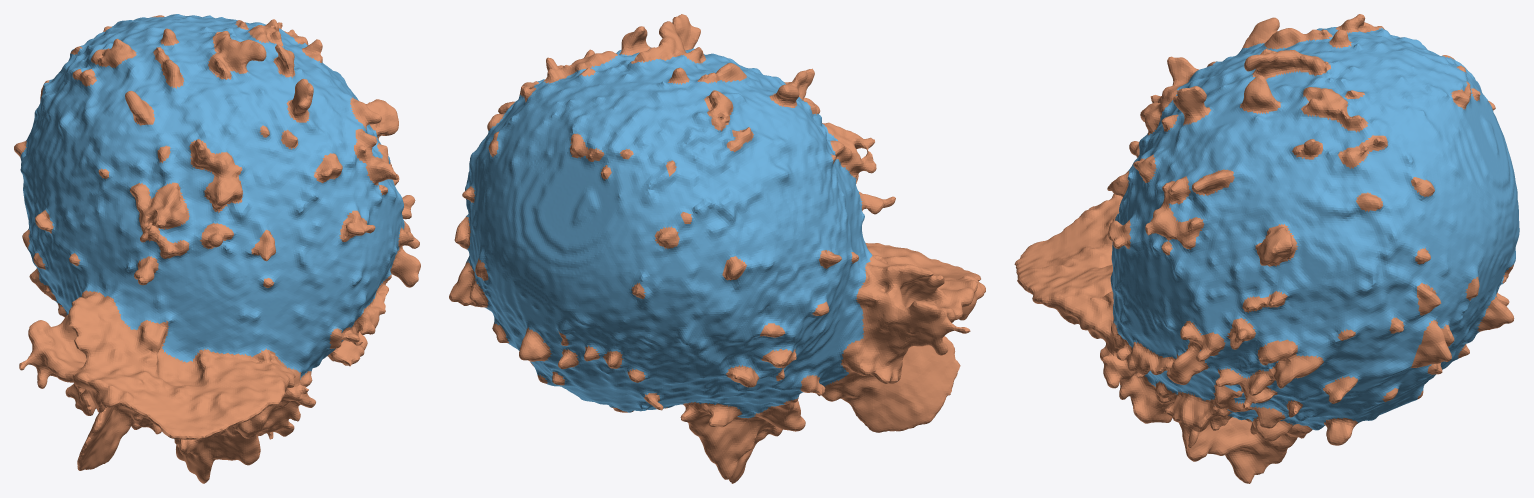
The picture shows the model from 3 angles, left to right: view 1: azimuth 30°, elevation 25°; view 2: azimuth 150°, elevation 25°; view 3: azimuth 270°, elevation 25°; orthographic projection. The views are drawn at different scales.
Bounding box in the file's own units: 166 × 163 × 162.
